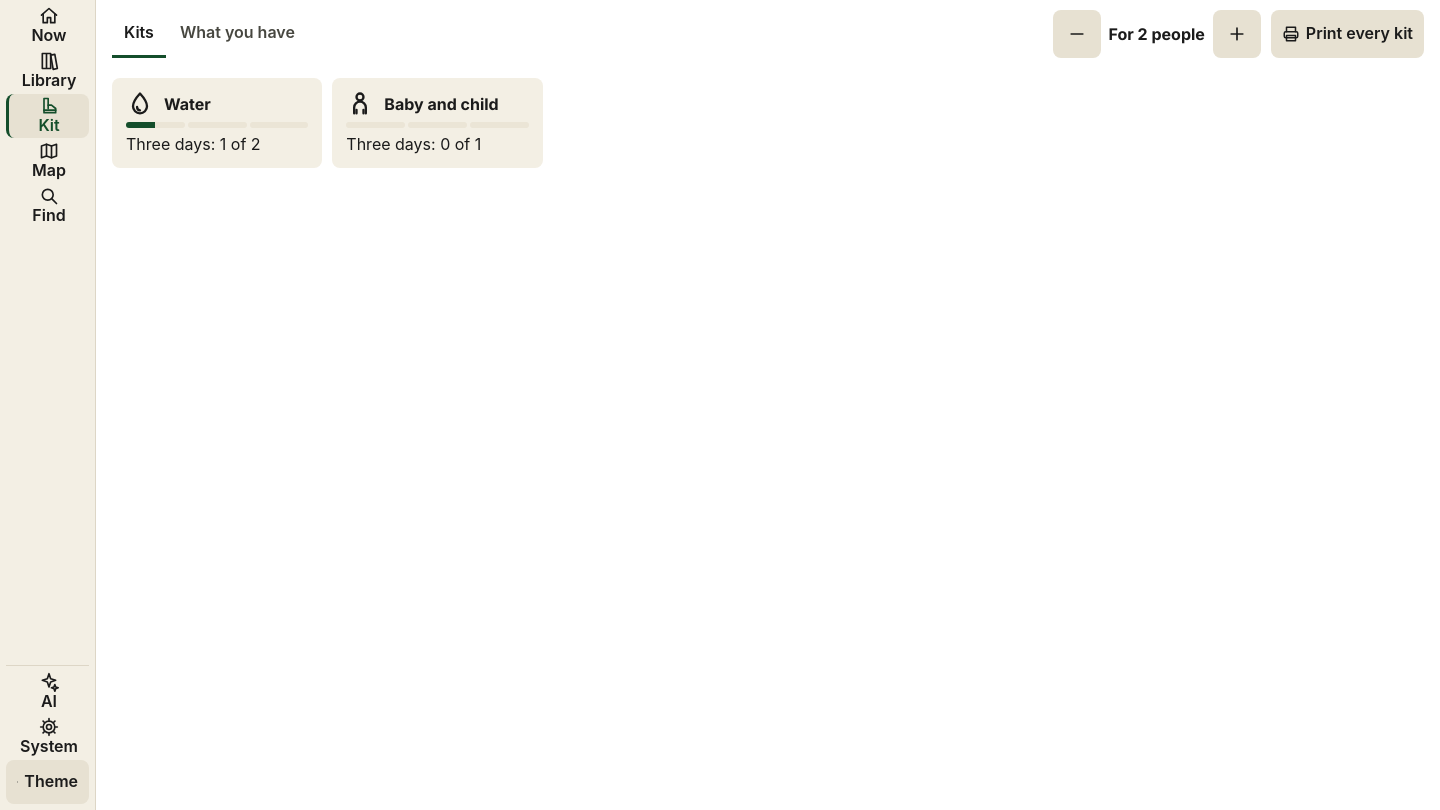
Kits › shows every ticked thing on the What you have tab, kit by kit, with its quantity
Click the tab "What you have". click: (237, 34)
box: [168, 10, 307, 58]
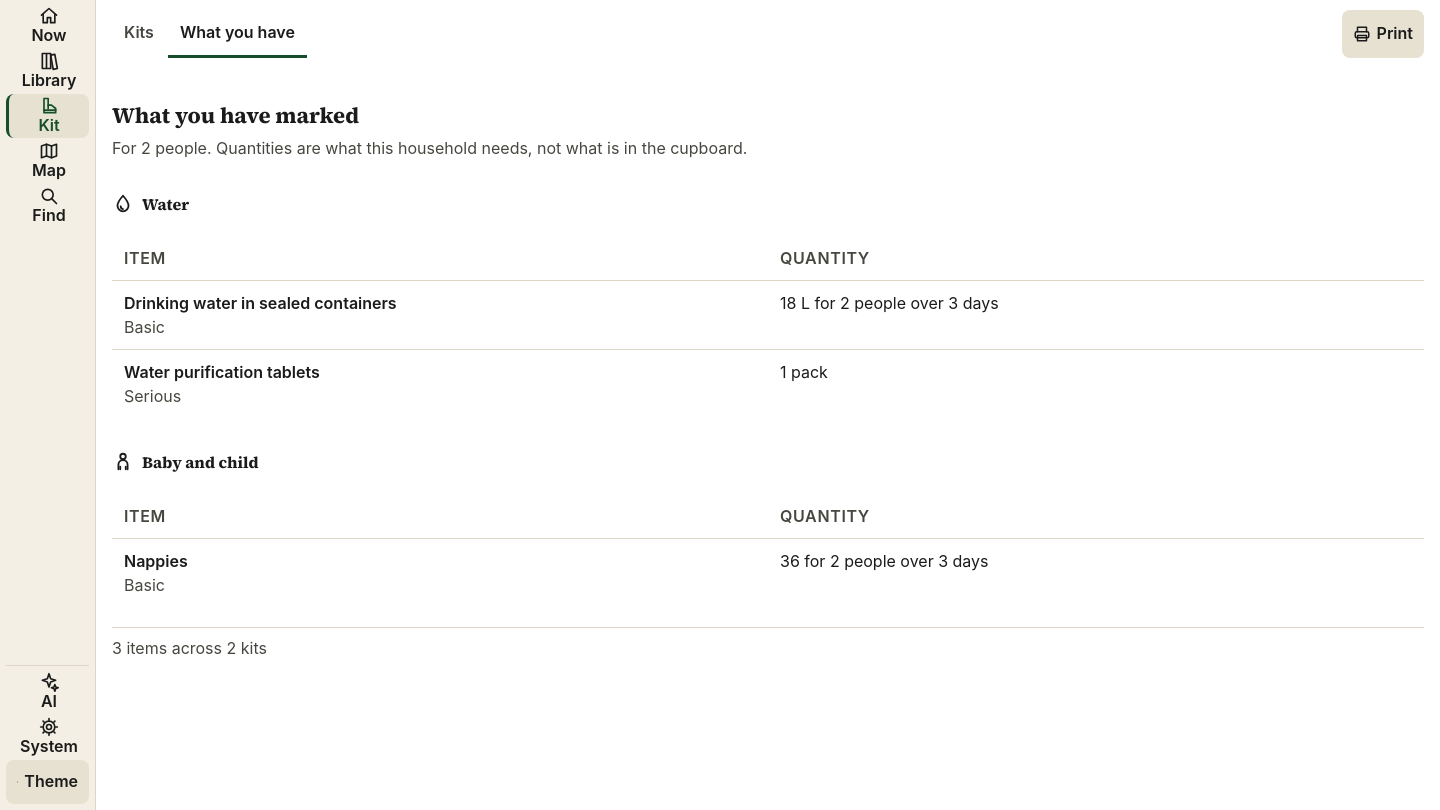
expect the heading "What you have marked" is shown: met, box [112, 100, 359, 130]
expect the text "For 2 people" is shown: met, box [112, 138, 207, 158]
expect the column headings read "Item", "Quantity", in this order: met, box [112, 236, 768, 281]; [768, 236, 1424, 281]
